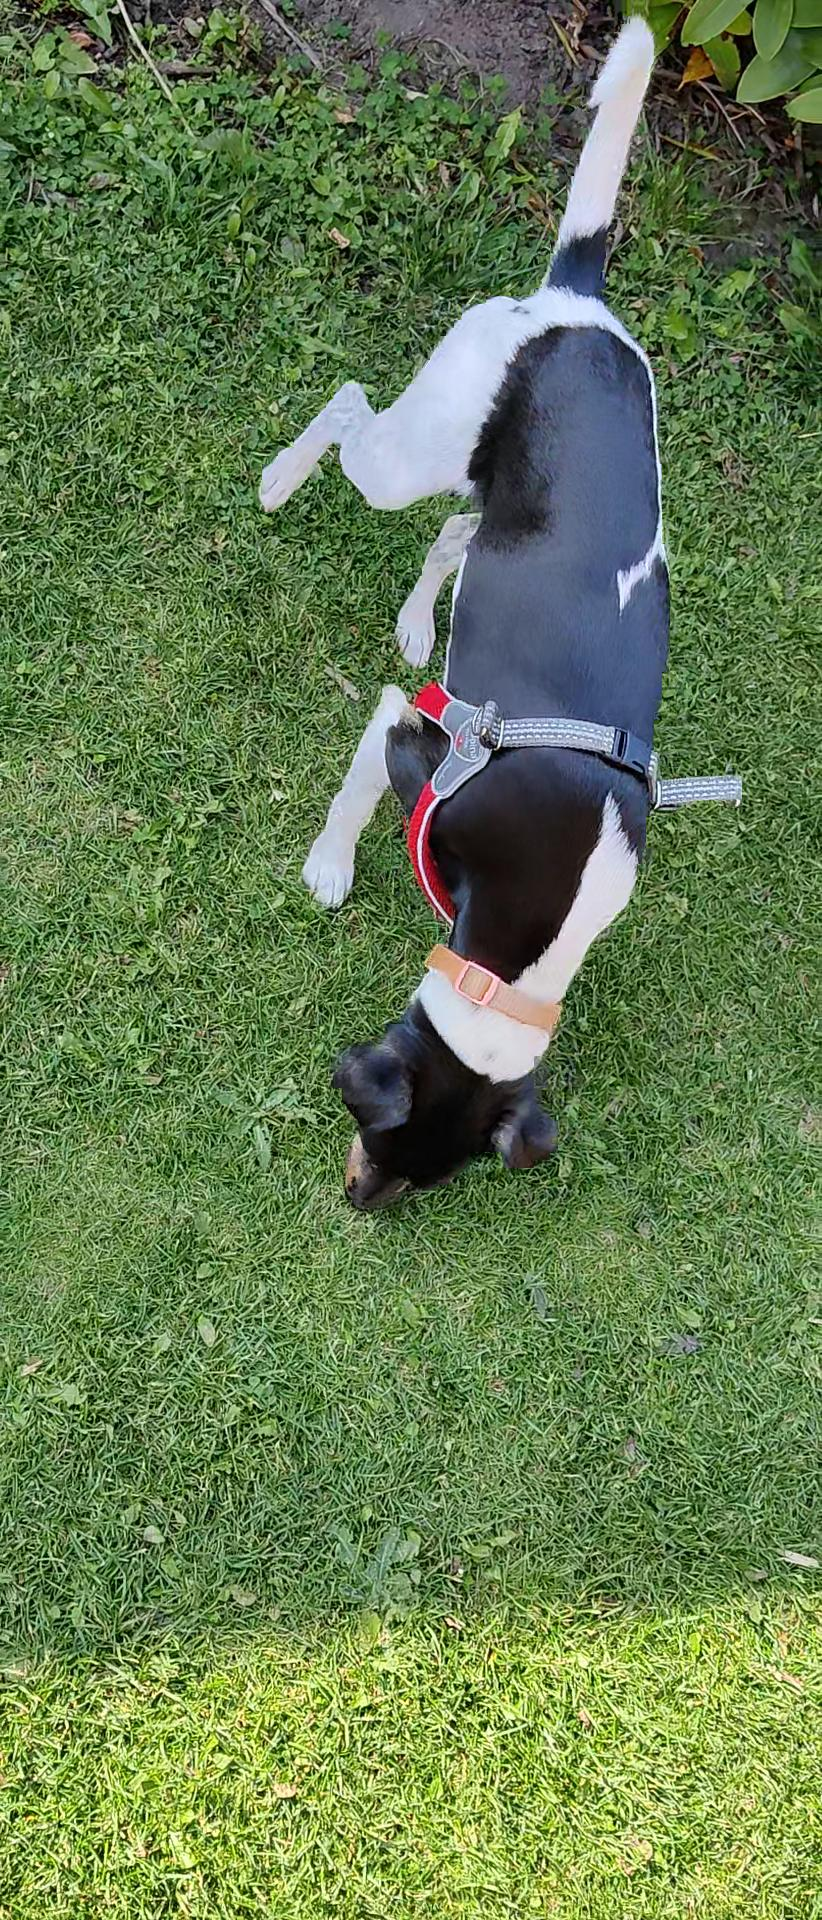Dog: (243, 7, 719, 1236)
